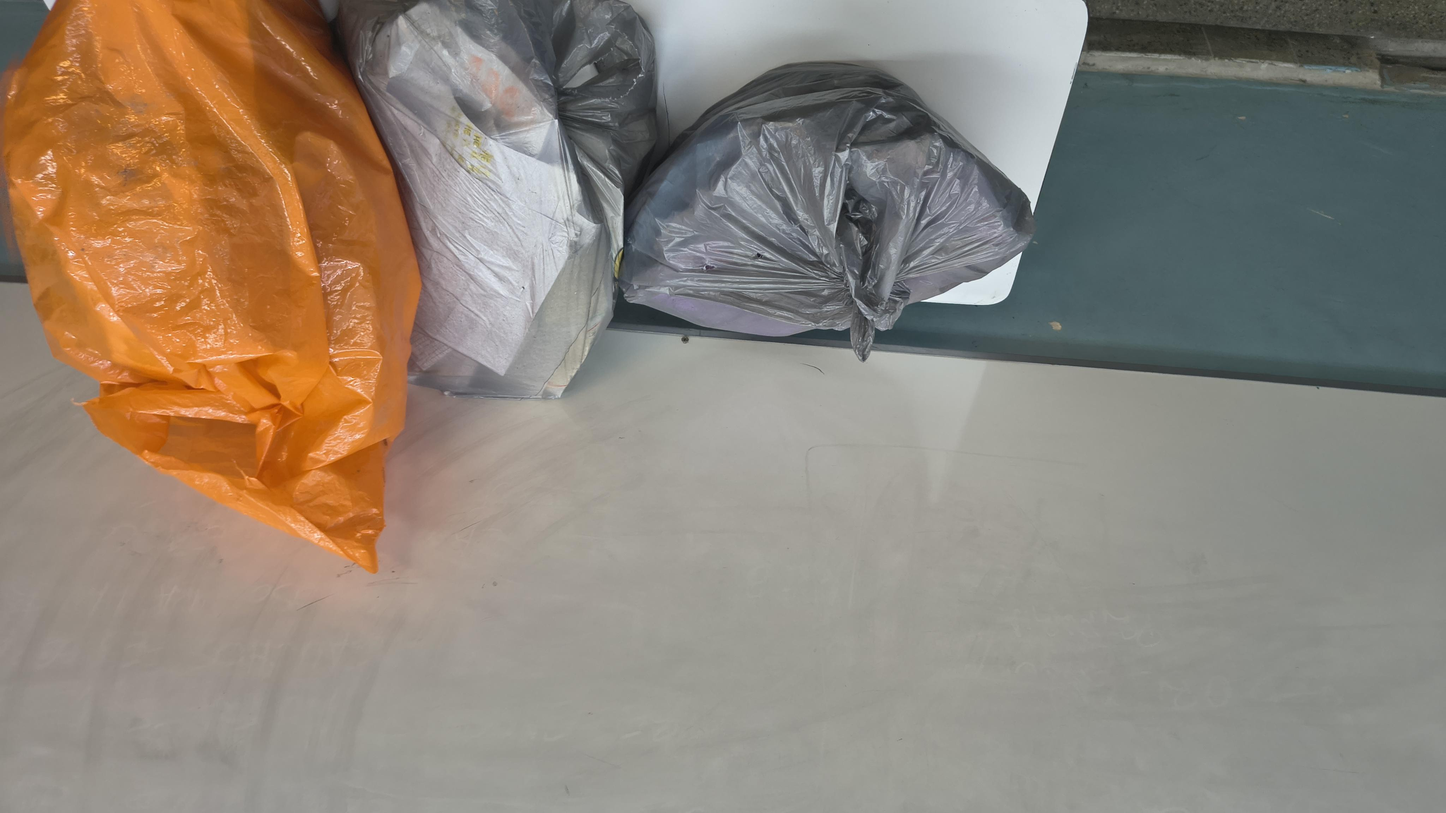Garbage: (996, 221, 1446, 808), (766, 374, 1116, 813), (408, 434, 828, 778)
